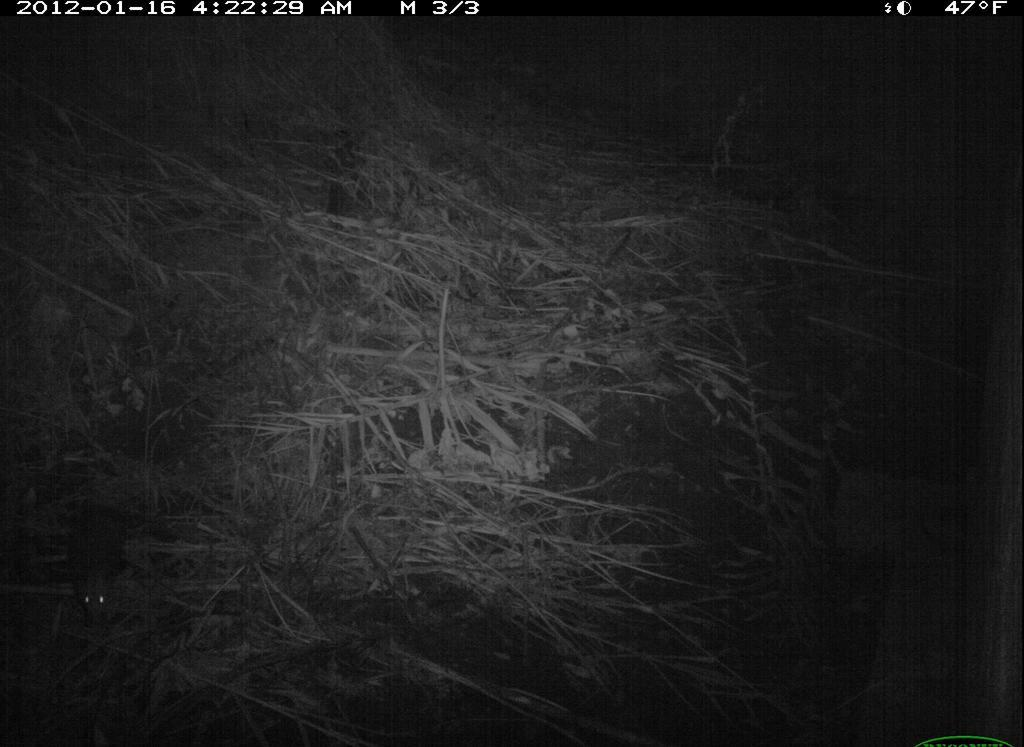opossum: (63, 496, 140, 634)
